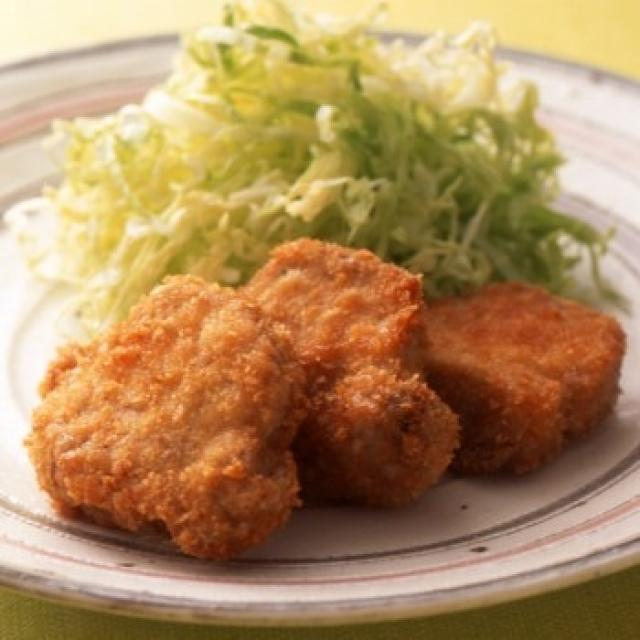牛肉菜式: (15, 33, 616, 585)
